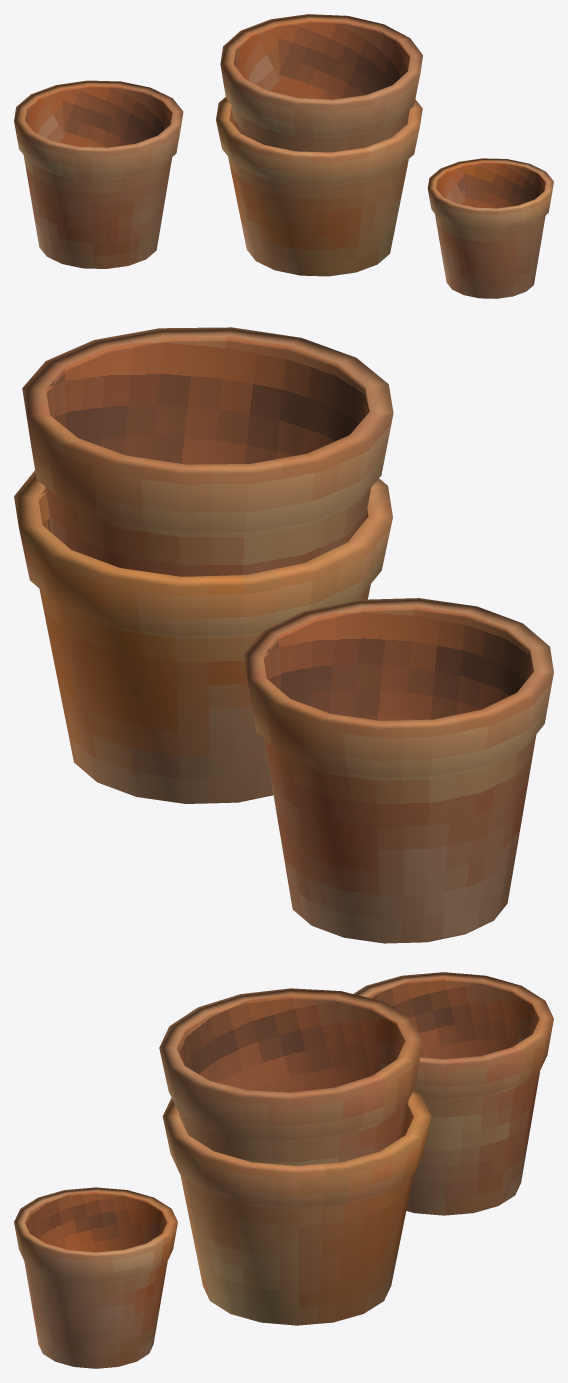
File: objects_un_t01flowerpots09.gltf
3 renders of one model, top to bottom at view 1: azimuth 30°, elevation 25°; view 2: azimuth 150°, elevation 25°; view 3: azimuth 270°, elevation 25°, orthographic. The views are drawn at different scales.
Visible parts, largest first — view 1: objects_un_t01flowerpots09_mesh_shape:objects_un_t01flowerpo (×3); view 2: objects_un_t01flowerpots09_mesh_shape:objects_un_t01flowerpo (×2); view 3: objects_un_t01flowerpots09_mesh_shape:objects_un_t01flowerpo (×3).
Part boxes in pixels (left/top/right/bottom): objects_un_t01flowerpots09_mesh_shape:objects_un_t01flowerpo (×3): left=14, top=14, right=553, bottom=298; objects_un_t01flowerpots09_mesh_shape:objects_un_t01flowerpo (×2): left=14, top=327, right=553, bottom=943; objects_un_t01flowerpots09_mesh_shape:objects_un_t01flowerpo (×3): left=14, top=972, right=553, bottom=1368.
Size of what is drawn, in the model's own units: 0.9775 by 0.4616 by 0.9191.
Materials: 3 (3 with a texture image).
